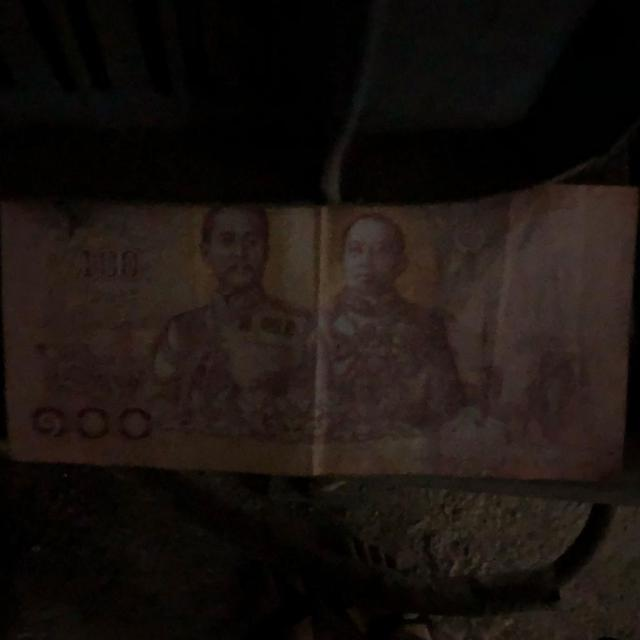THAI100: (0, 185, 639, 484)
